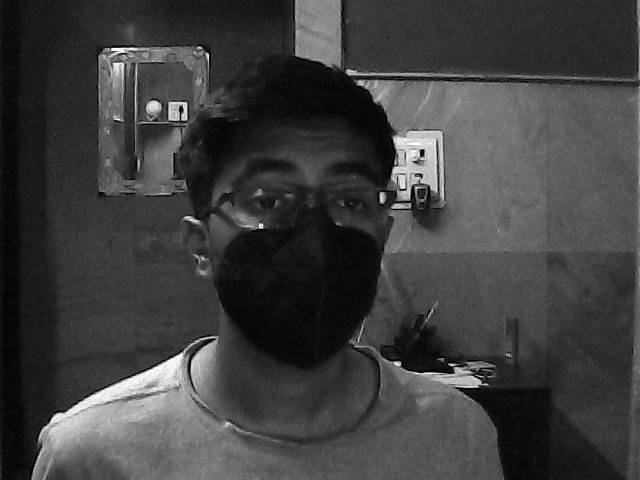mask: (207, 146, 393, 377)
